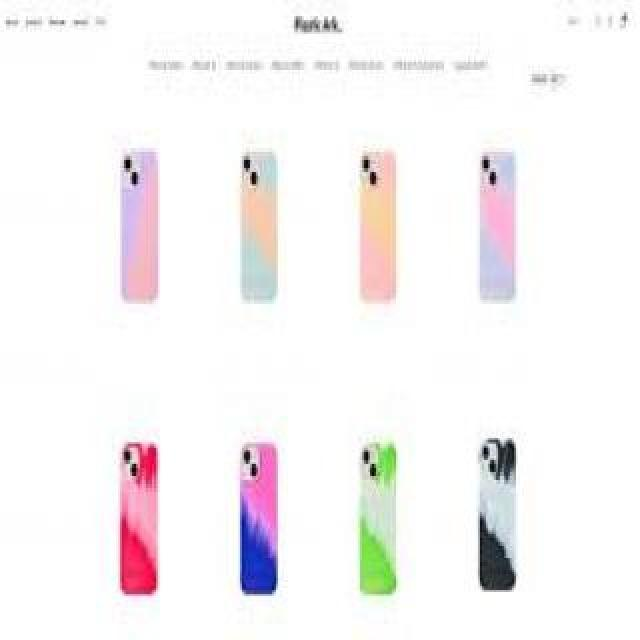smart phone: (468, 140, 558, 338), (108, 137, 198, 320), (342, 138, 428, 327), (468, 423, 545, 615), (233, 140, 305, 337), (352, 426, 413, 626), (228, 437, 292, 623), (107, 442, 175, 616)
